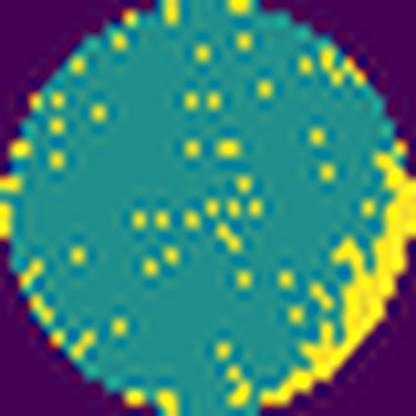Edge-Loc: (264, 146, 415, 412)
